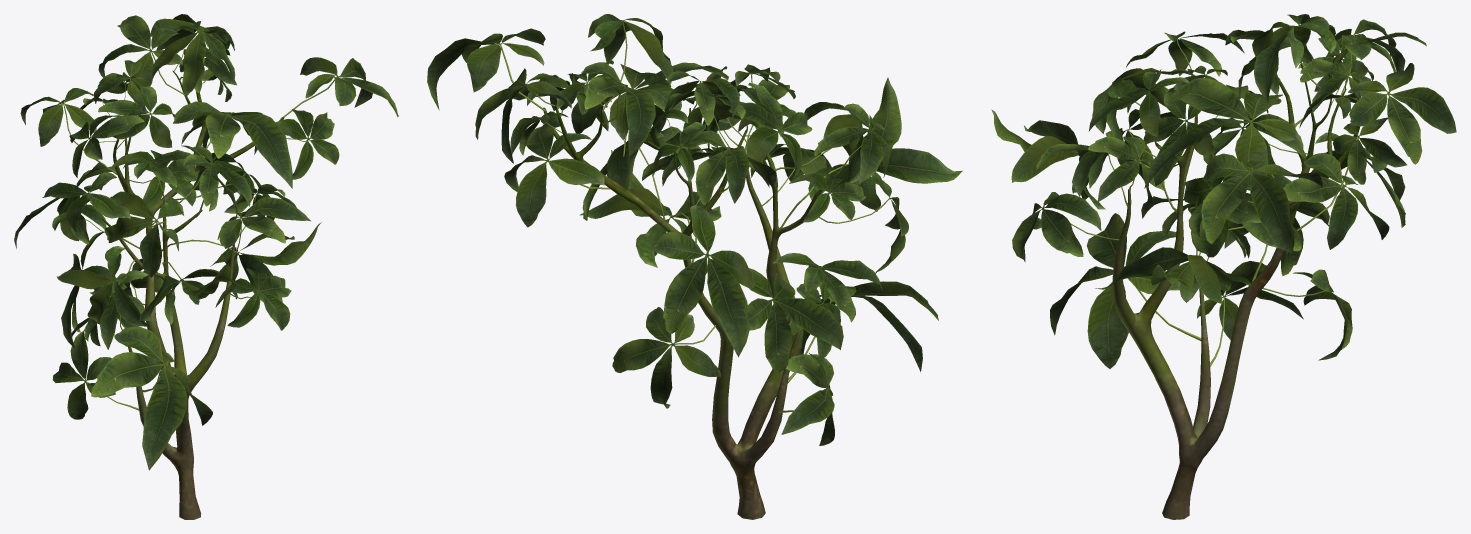
File: pachira_aquatica_01_c.gltf
3 views of the same model, side by side, from view 1: azimuth 30°, elevation 25°; view 2: azimuth 150°, elevation 25°; view 3: azimuth 270°, elevation 25° (orthographic). The views are drawn at different scales.
Visible parts, largest first — view 1: pachira_aquatica_01_leaves_c, pachira_aquatica_01_bark_c; view 2: pachira_aquatica_01_leaves_c, pachira_aquatica_01_bark_c; view 3: pachira_aquatica_01_leaves_c, pachira_aquatica_01_bark_c.
Part boxes in pixels (x1=…): pachira_aquatica_01_leaves_c: x1=14, y1=14, x2=398, y2=470; pachira_aquatica_01_bark_c: x1=101, y1=71, x2=284, y2=519; pachira_aquatica_01_leaves_c: x1=427, y1=14, x2=962, y2=445; pachira_aquatica_01_bark_c: x1=543, y1=104, x2=838, y2=519; pachira_aquatica_01_leaves_c: x1=991, y1=14, x2=1456, y2=368; pachira_aquatica_01_bark_c: x1=1112, y1=61, x2=1359, y2=519.
Bounding box in the file's own units: 0.9753 × 1.15 × 0.9237.
2 materials, 2 textured.
